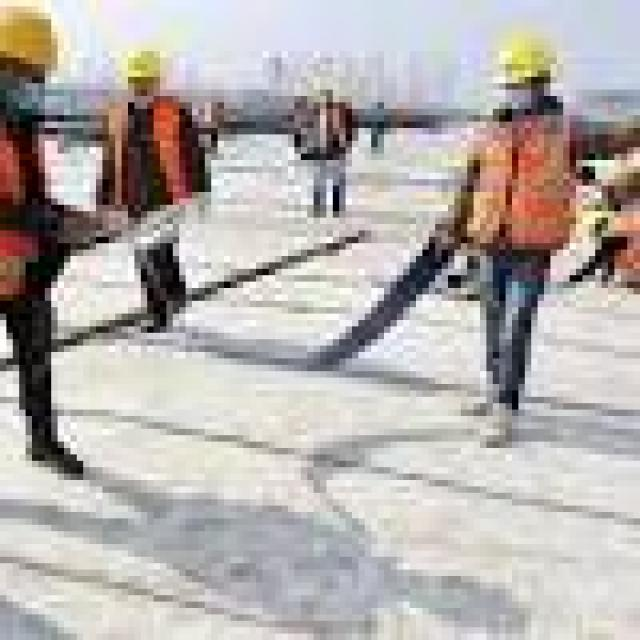Reflective-Jacket: (461, 96, 589, 275)
Safety-Helmet: (474, 13, 576, 102), (0, 0, 90, 96)
